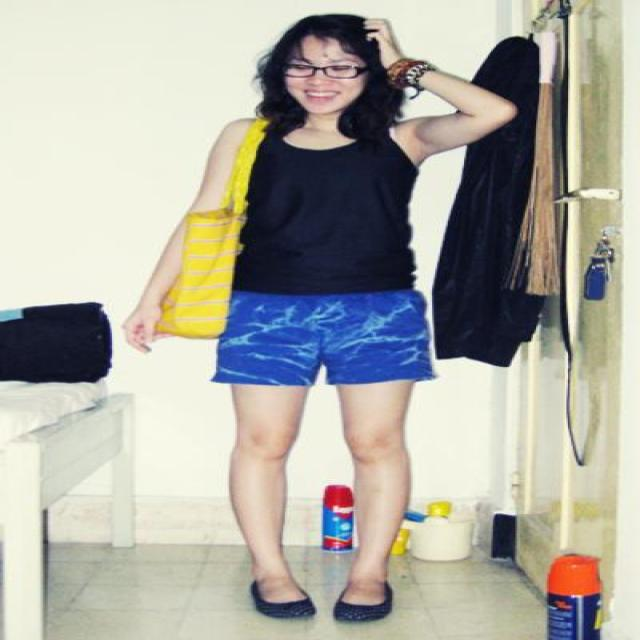bag: (154, 120, 267, 338)
shirt: (232, 128, 419, 294)
shoe: (252, 580, 391, 623)
shorts: (211, 289, 435, 385)
